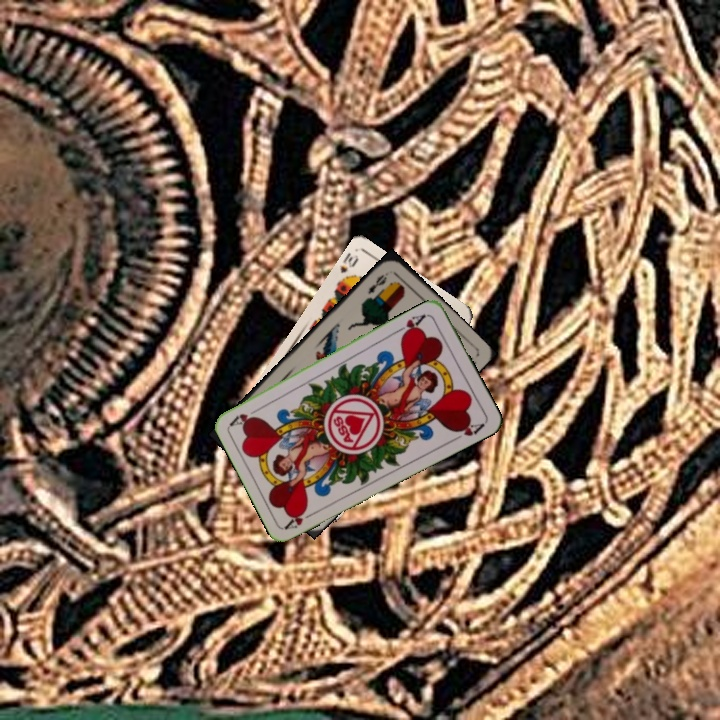EO: (364, 268, 391, 297)
HA: (393, 310, 430, 340), (282, 504, 320, 532)
S10: (335, 249, 361, 285)
